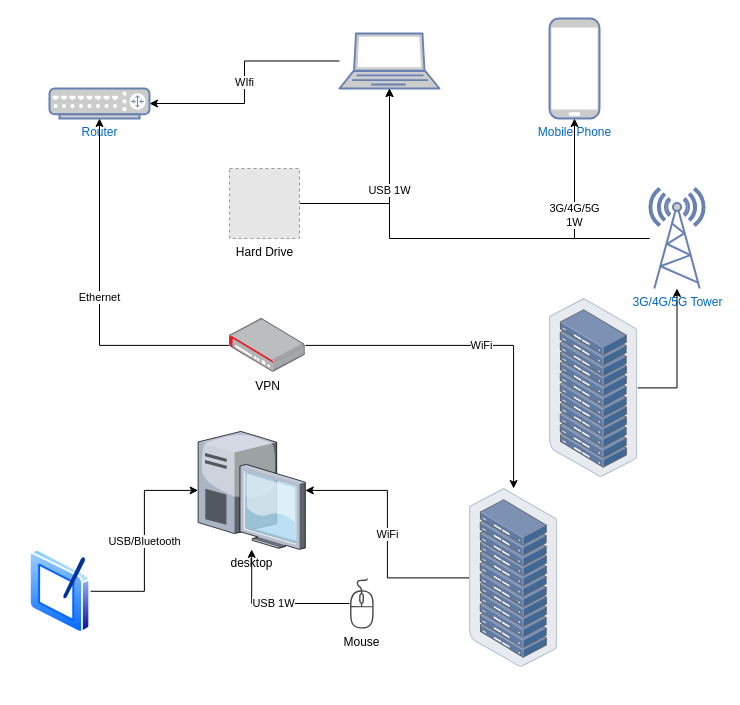
Image size: 740x705. Some labels were removed from this diagram. Grey dashed boxes stand in for pictures. Each missing label, with the centre of its shape:
"Graphics tablets" belongs at (59,591).
"Laptop" belongs at (389,60).
"Remote server" belongs at (593,387).
"Work server" belongs at (513,577).
